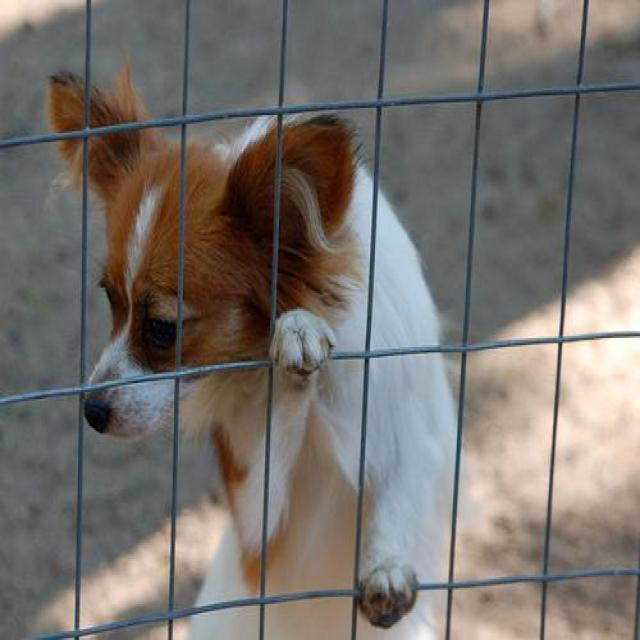papillon: (40, 49, 471, 638)
